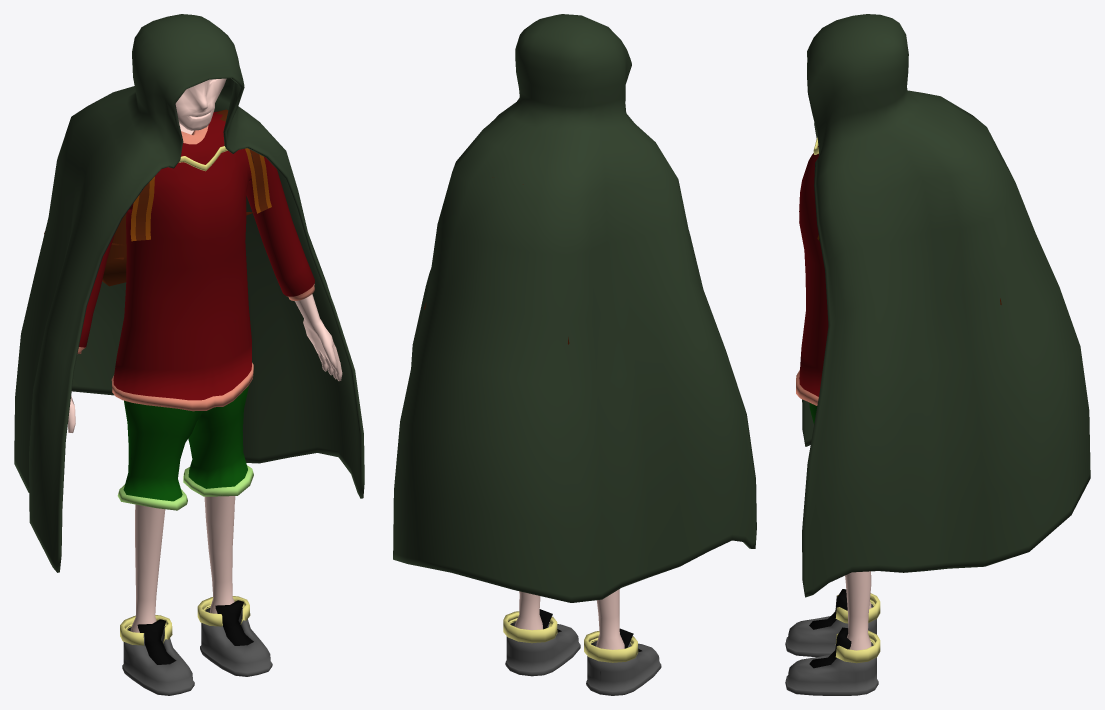
File: ModeloJeremyUnity.fbx
3 renders of one model, left to right at view 1: azimuth 30°, elevation 25°; view 2: azimuth 150°, elevation 25°; view 3: azimuth 270°, elevation 25°, orthographic. The views are drawn at different scales.
Parts seen in each view (by area): view 1: Zapato; view 2: Zapato; view 3: Zapato.
Part boxes in pixels (bbox=[...]): Zapato: bbox=[14, 14, 364, 695]; Zapato: bbox=[393, 14, 756, 695]; Zapato: bbox=[785, 14, 1090, 695].
Size of the model in its own units: 233 by 456 by 195.
Materials: 1 (1 with a texture image).
